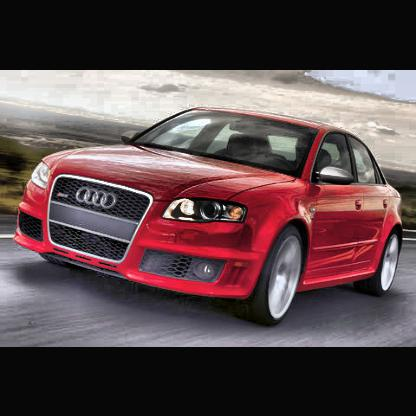Audi S4 Sedan 2007: (15, 105, 403, 323)
